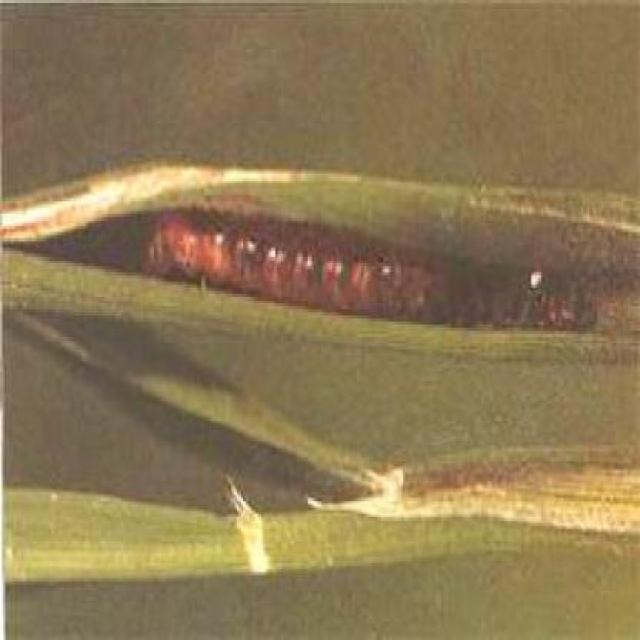leaf-folder: (115, 138, 593, 374)
